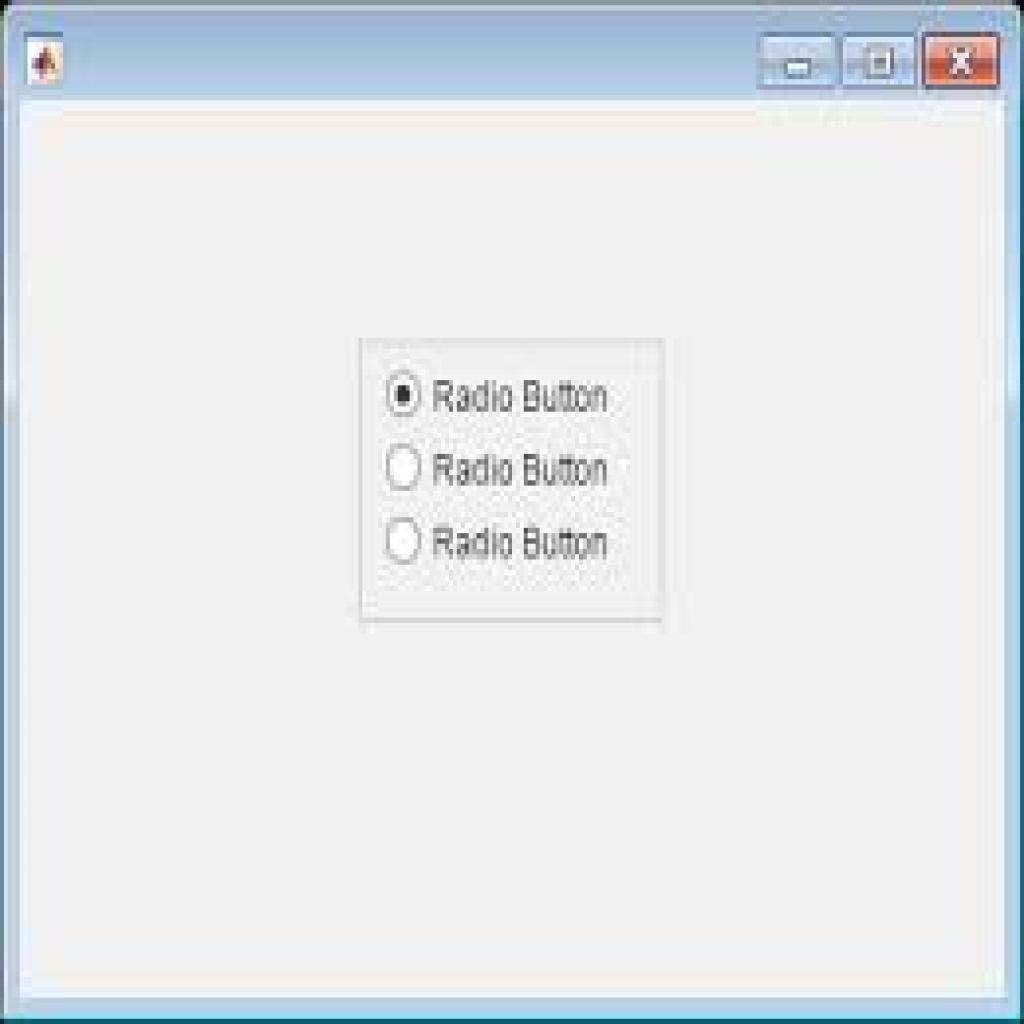radio: (382, 509, 428, 573), (381, 439, 426, 503), (384, 367, 426, 428)
